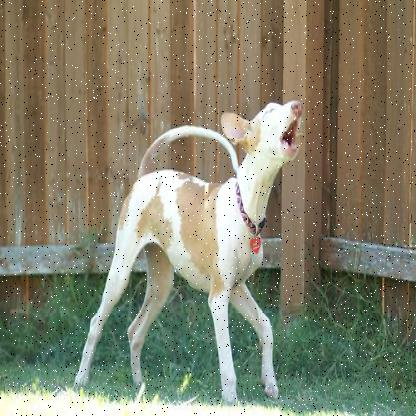dog: (92, 88, 308, 409)
